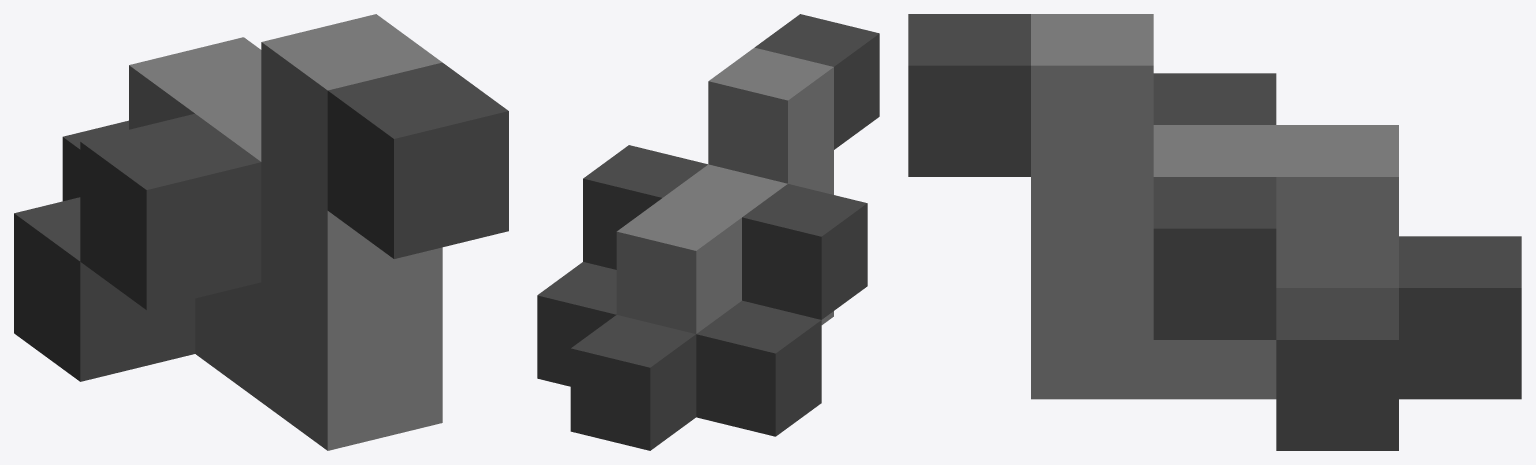
The model's file is 3D Voxel Park-91.obj.
The picture shows the model from 3 angles, left to right: view 1: azimuth 30°, elevation 25°; view 2: azimuth 150°, elevation 25°; view 3: azimuth 270°, elevation 25°; orthographic projection. The views are drawn at different scales.
Bounding box in the file's own units: 0.3 × 0.3 × 0.5.
Materials: 1 (1 with a texture image).
